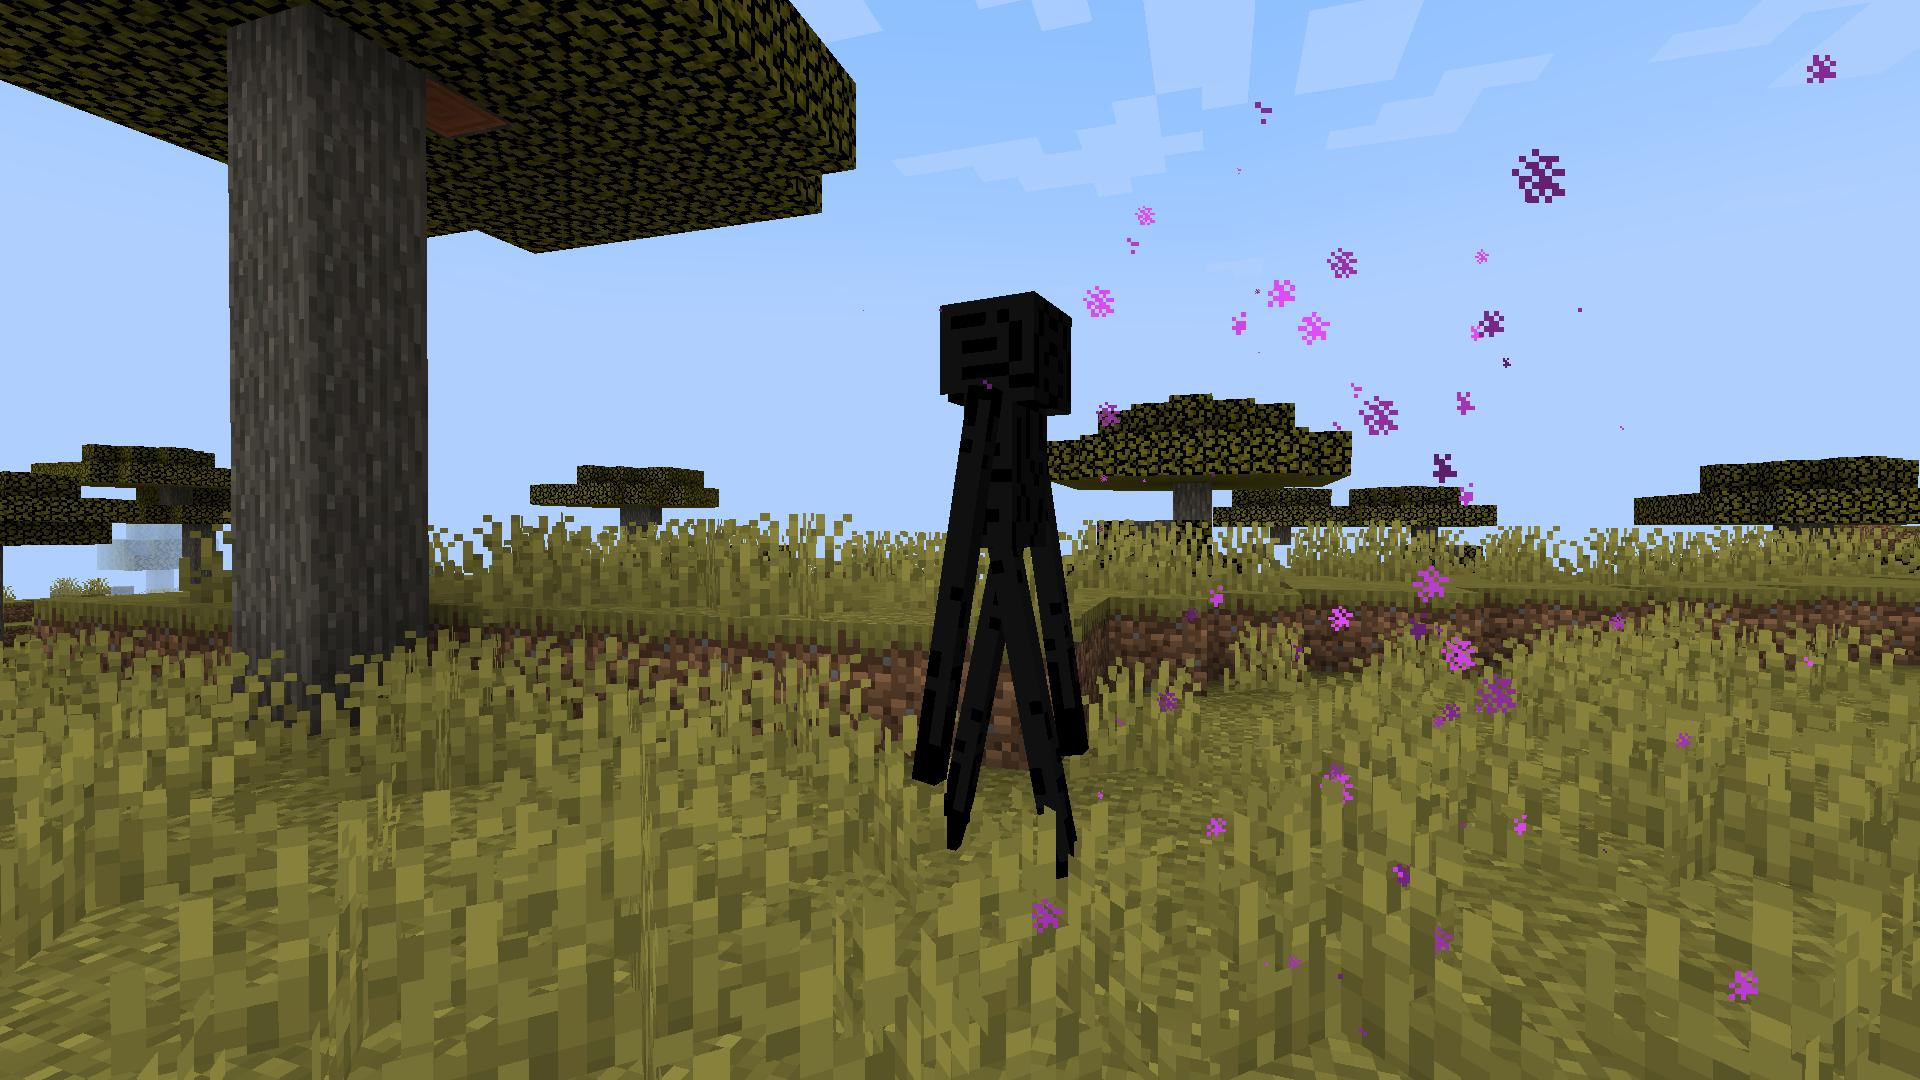enderman: (893, 290, 1102, 913)
